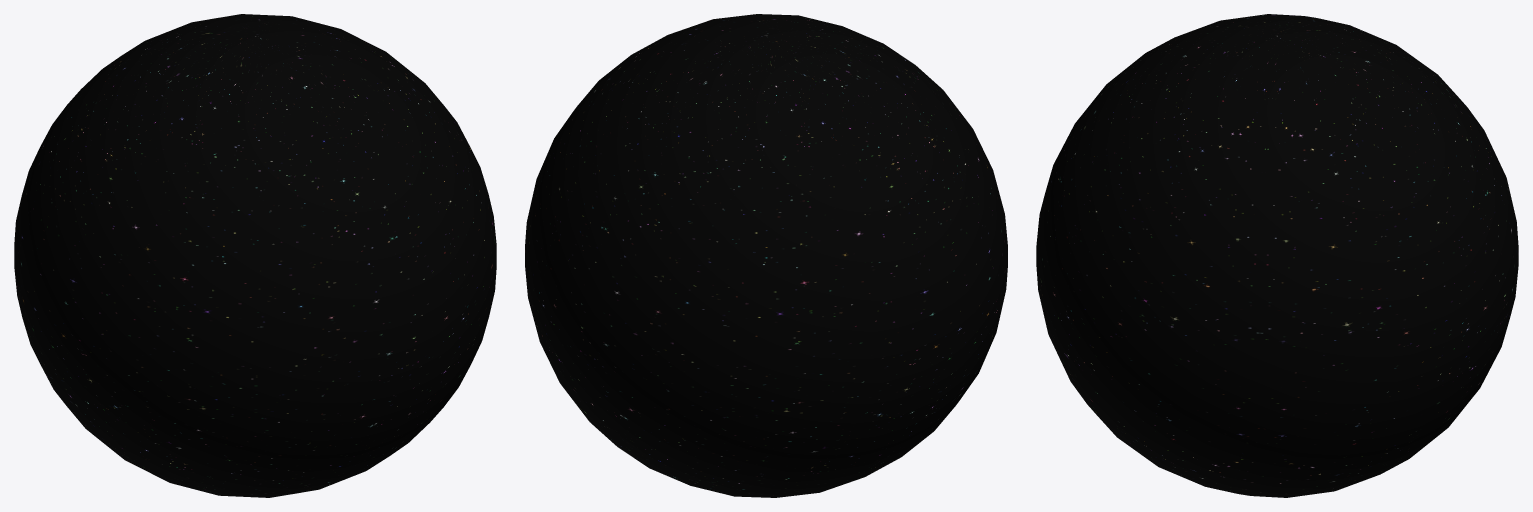
The model's file is background.obj.
The picture shows the model from 3 angles, left to right: view 1: azimuth 30°, elevation 25°; view 2: azimuth 150°, elevation 25°; view 3: azimuth 270°, elevation 25°; orthographic projection.
Size of the model in its own units: 2 by 2 by 1.99.
1 material, 1 textured.
